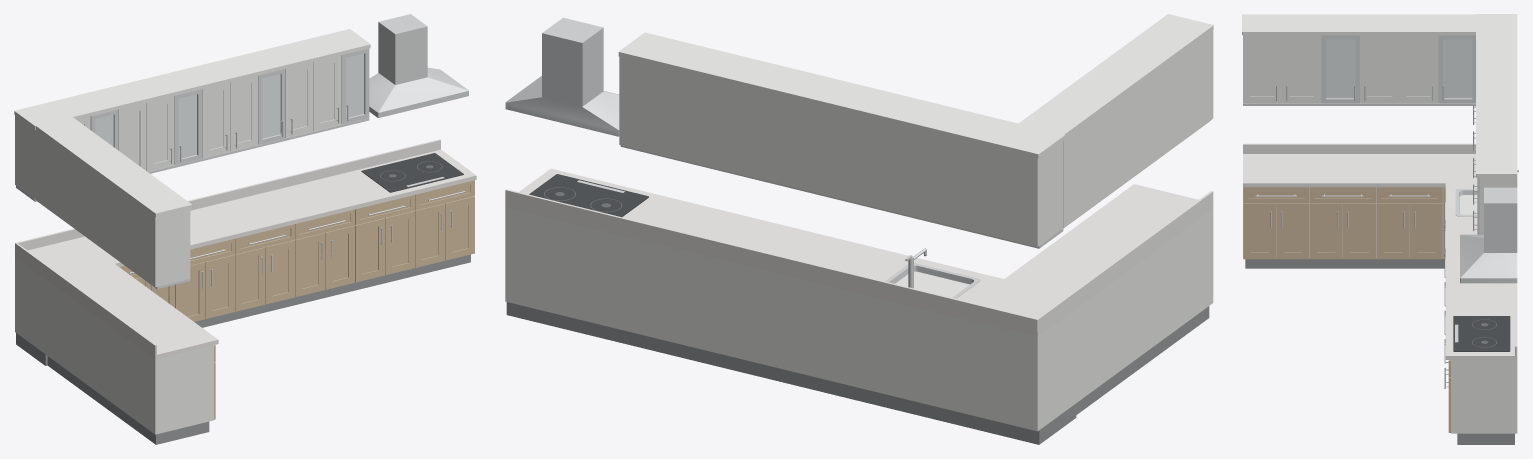
3 views of the same model, side by side, from view 1: azimuth 30°, elevation 25°; view 2: azimuth 150°, elevation 25°; view 3: azimuth 270°, elevation 25° (orthographic). The views are drawn at different scales.
Parts seen in each view (by area): view 1: Tủ bếp chữ L Dài cạnh chính=4200; Dài cạnh phụ=2400; Sâu tủ ; view 2: Tủ bếp chữ L Dài cạnh chính=4200; Dài cạnh phụ=2400; Sâu tủ ; view 3: Tủ bếp chữ L Dài cạnh chính=4200; Dài cạnh phụ=2400; Sâu tủ .
Part boxes in pixels (x1,y1,x2,y2): Tủ bếp chữ L Dài cạnh chính=4200; Dài cạnh phụ=2400; Sâu tủ : (14, 14, 476, 444); Tủ bếp chữ L Dài cạnh chính=4200; Dài cạnh phụ=2400; Sâu tủ : (505, 14, 1213, 444); Tủ bếp chữ L Dài cạnh chính=4200; Dài cạnh phụ=2400; Sâu tủ : (1242, 14, 1518, 444).
Bounding box in the file's own units: 4.21 × 2.2 × 2.42.
